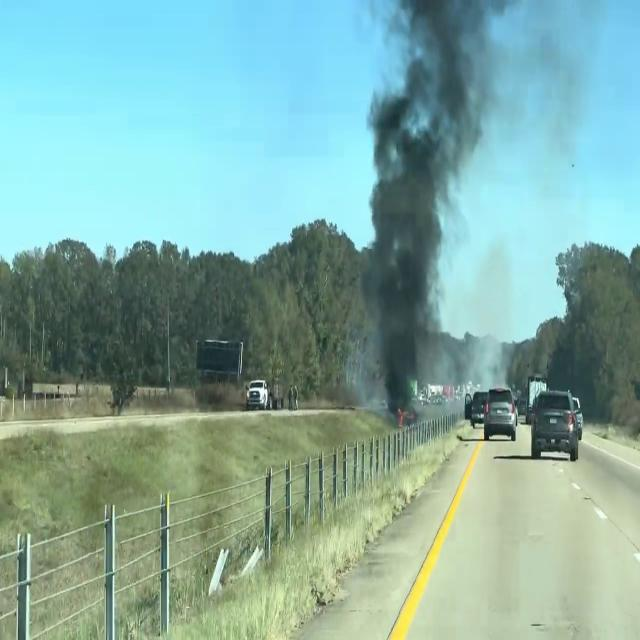Smoke: (352, 1, 496, 398)
